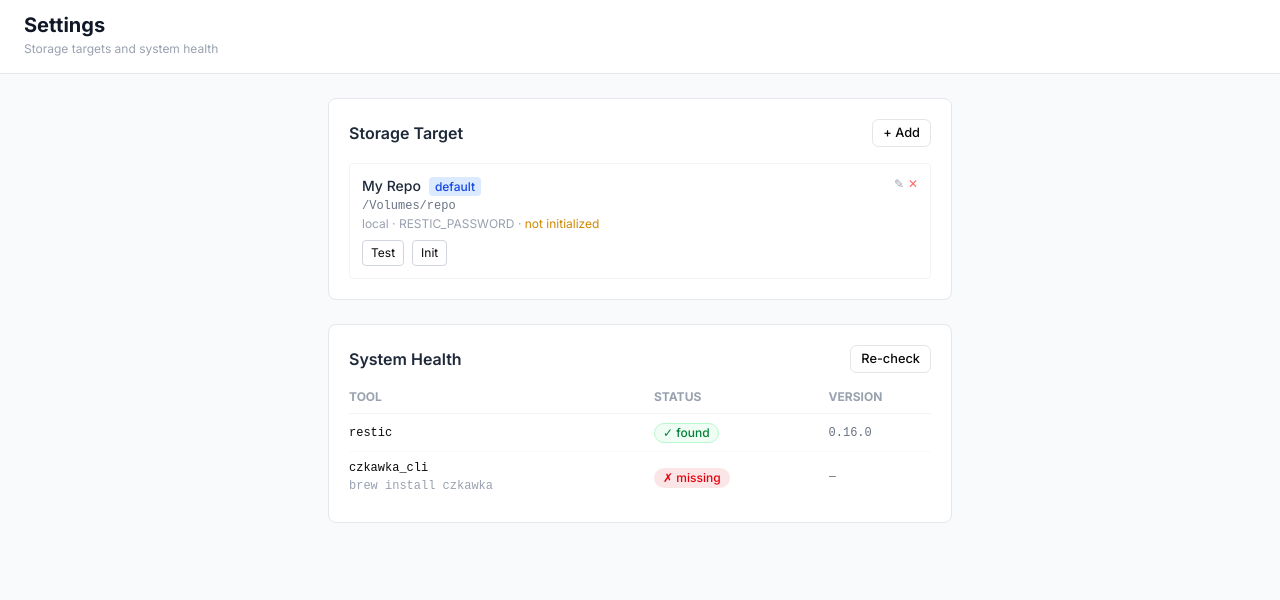
Test case: Settings page › shows test error when testStorageTarget rejects
Step 1. Click the button "Test" → (383, 253), box [362, 240, 404, 266]
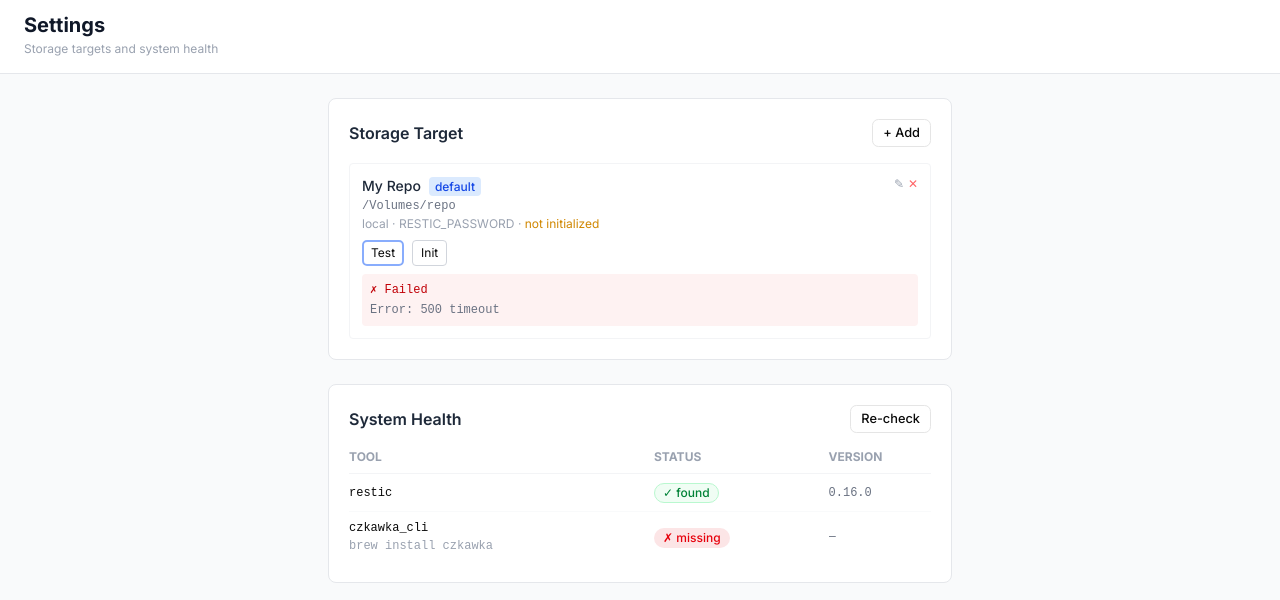
Result: the text "✗ Failed Error: 500 timeout" is shown at [362, 274, 918, 326]
